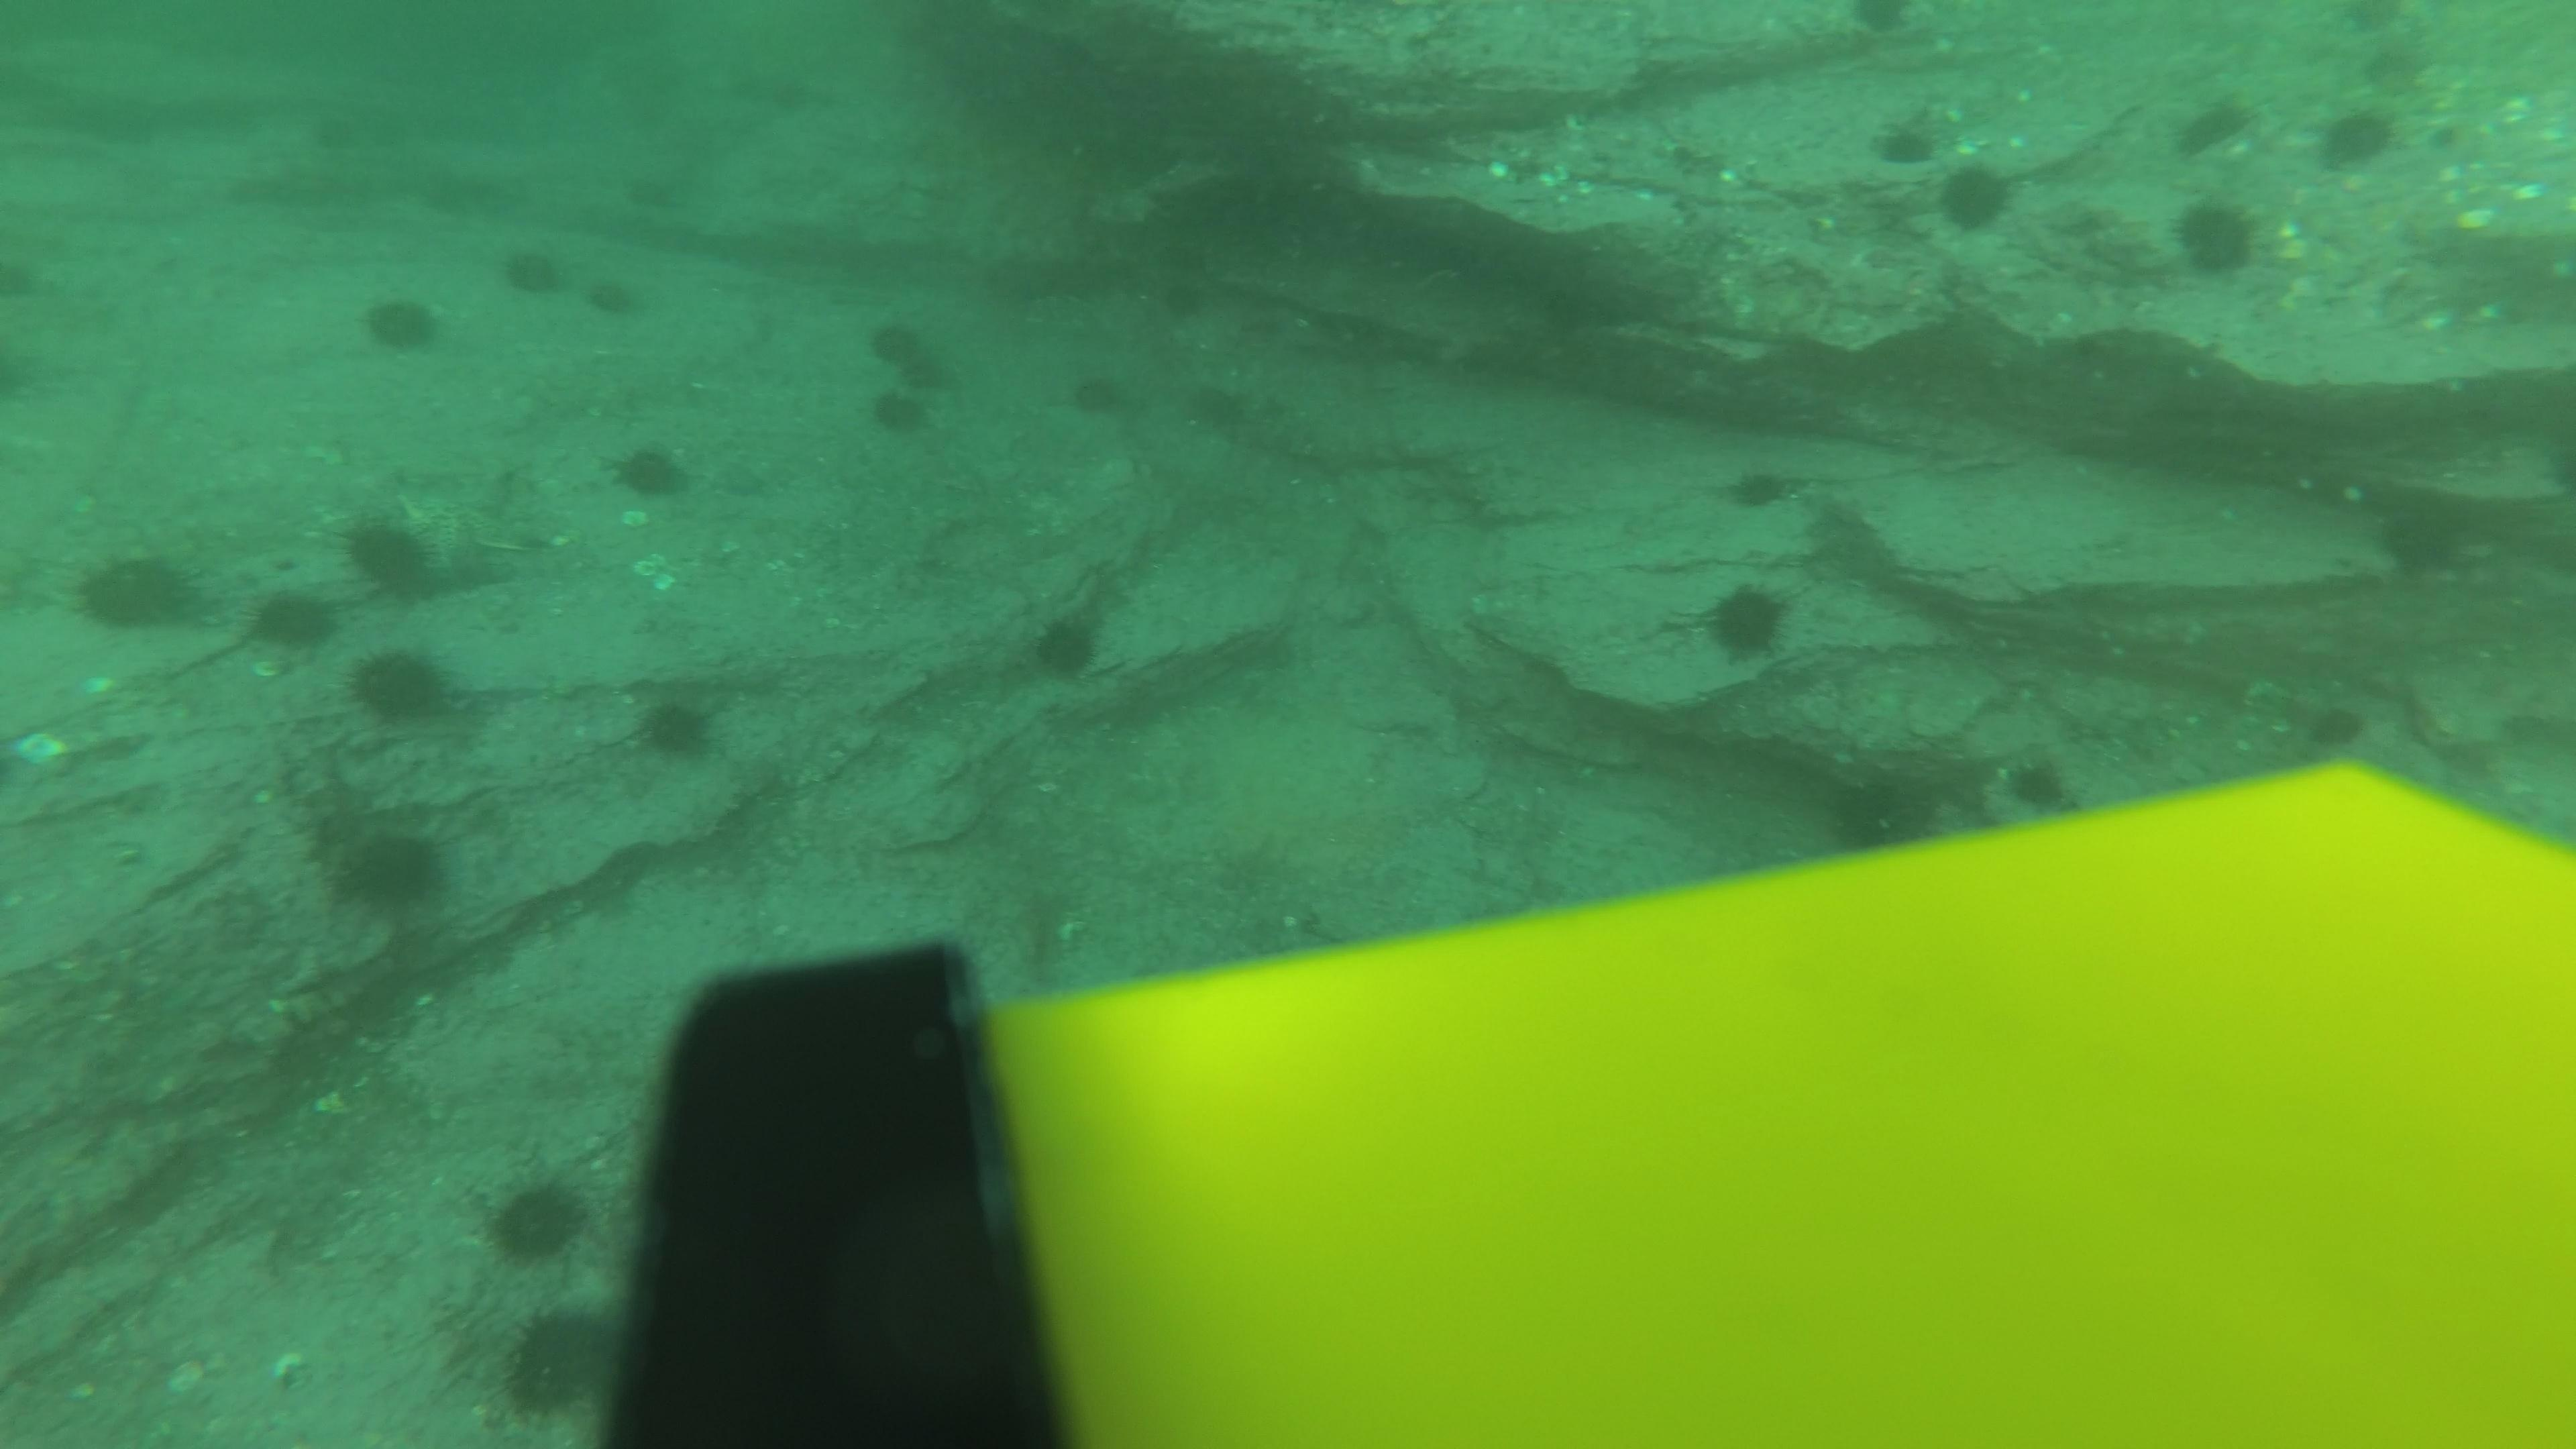echinus: (490, 1300, 619, 1424), (324, 816, 455, 920), (1821, 757, 1955, 858), (69, 541, 205, 639), (478, 1168, 594, 1270), (336, 506, 451, 605), (343, 640, 464, 732), (1695, 575, 1799, 667), (2367, 492, 2475, 580), (2166, 191, 2266, 283), (625, 685, 727, 770), (244, 580, 341, 658), (1021, 603, 1111, 686), (1930, 156, 2020, 239), (2311, 99, 2404, 175), (356, 285, 446, 359), (605, 435, 695, 506), (2169, 90, 2258, 161), (1997, 748, 2081, 821), (1868, 106, 1946, 172), (858, 391, 932, 458), (495, 237, 570, 303), (2300, 692, 2374, 752), (2357, 35, 2426, 97), (1721, 460, 1798, 513), (582, 269, 648, 324), (1157, 272, 1215, 331), (860, 313, 918, 370), (904, 352, 962, 409), (1069, 364, 1127, 421), (1180, 375, 1238, 432), (1162, 228, 1221, 285), (626, 163, 685, 219), (419, 168, 478, 225), (304, 103, 363, 159), (1845, 0, 1920, 42), (0, 244, 44, 303)
